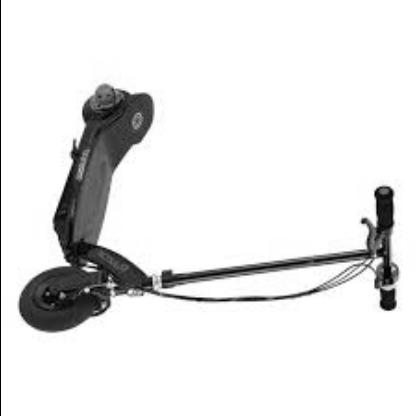bike: (19, 82, 405, 334)
